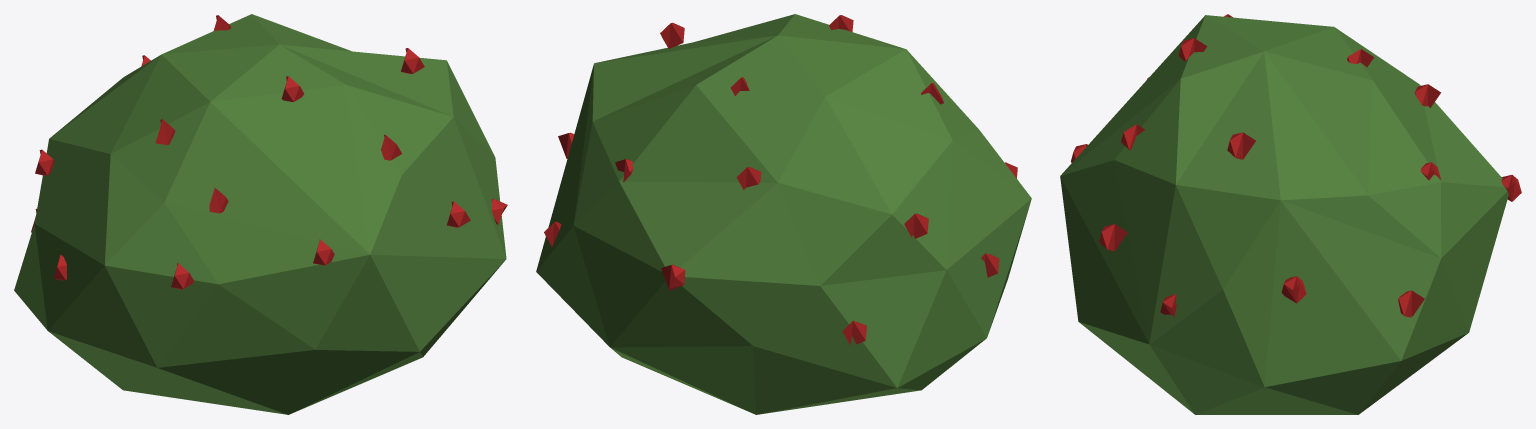
File: bush_06.glb
3 views of the same model, side by side, from view 1: azimuth 30°, elevation 25°; view 2: azimuth 150°, elevation 25°; view 3: azimuth 270°, elevation 25° (orthographic).
Parts seen in each view (by area): view 1: Object_81, Object_82; view 2: Object_81, Object_82; view 3: Object_81, Object_82.
Part boxes in pixels (x1,y1,x2,y2): Object_81: (14,14,506,414); Object_82: (31,15,507,289); Object_81: (536,14,1031,414); Object_82: (544,15,1017,345); Object_81: (1060,15,1508,414); Object_82: (1071,14,1521,317).
Bounding box in the file's own units: 2.55 × 1.76 × 2.36.
